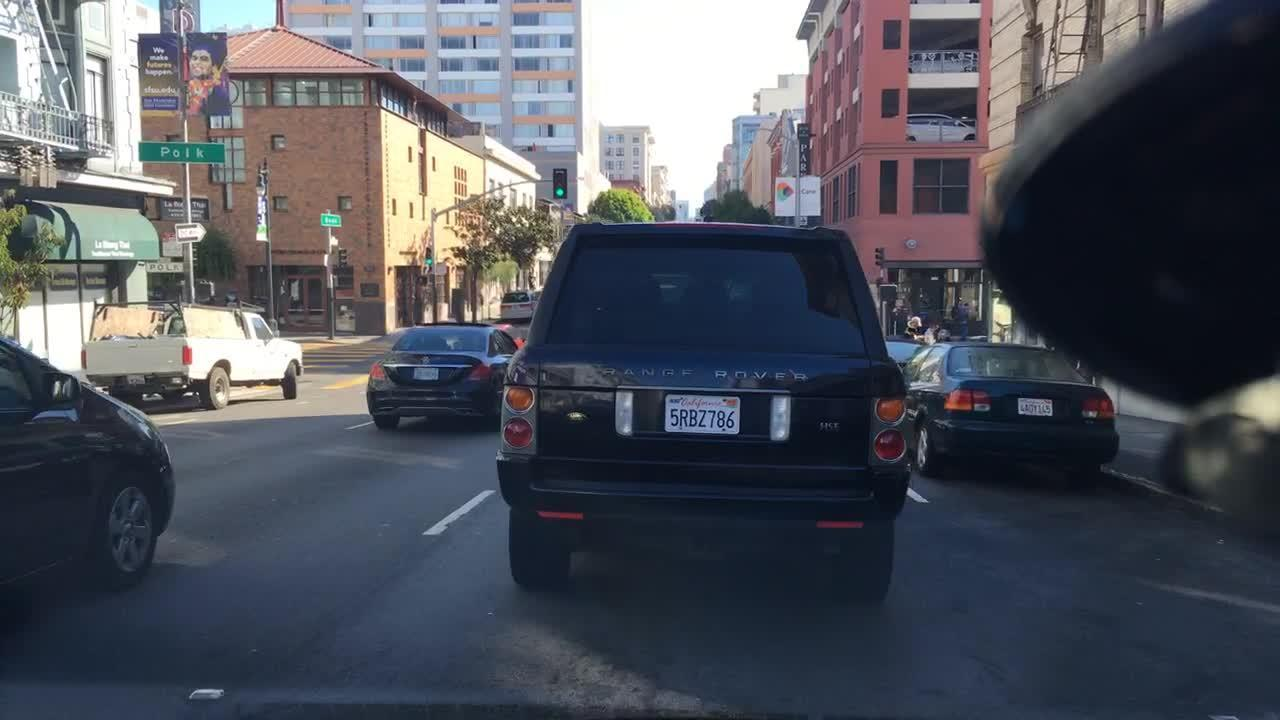range rover: (595, 359, 818, 392)
